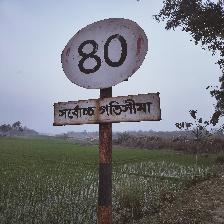Speed-limit: (55, 13, 162, 130)
